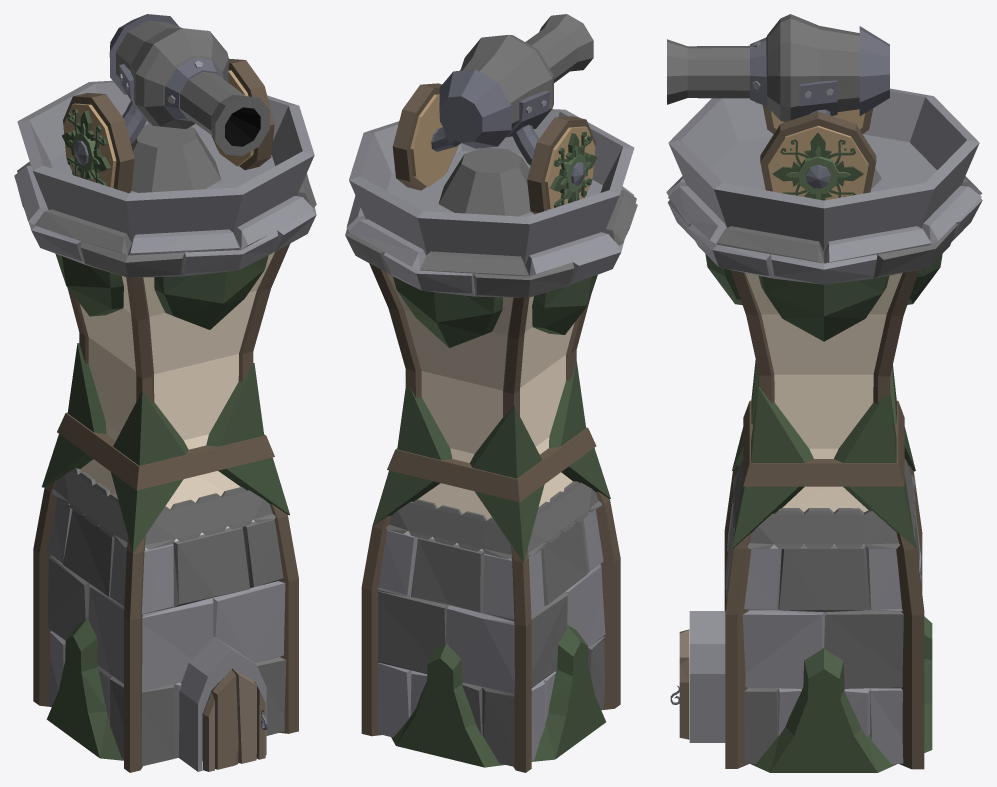
Rendered from _Cannon_tower_LVL_2.fbx.
3 renders of one model, left to right at view 1: azimuth 30°, elevation 25°; view 2: azimuth 150°, elevation 25°; view 3: azimuth 270°, elevation 25°, orthographic. The views are drawn at different scales.
Parts seen in each view (by area): view 1: Cannon_tower_LVL_2; view 2: Cannon_tower_LVL_2; view 3: Cannon_tower_LVL_2.
Boxes of the visible parts, x1=… form: Cannon_tower_LVL_2: x1=14, y1=14, x2=316, y2=772; Cannon_tower_LVL_2: x1=345, y1=14, x2=637, y2=772; Cannon_tower_LVL_2: x1=666, y1=14, x2=982, y2=772.
Bounding box in the file's own units: 604 × 1488 × 603.
